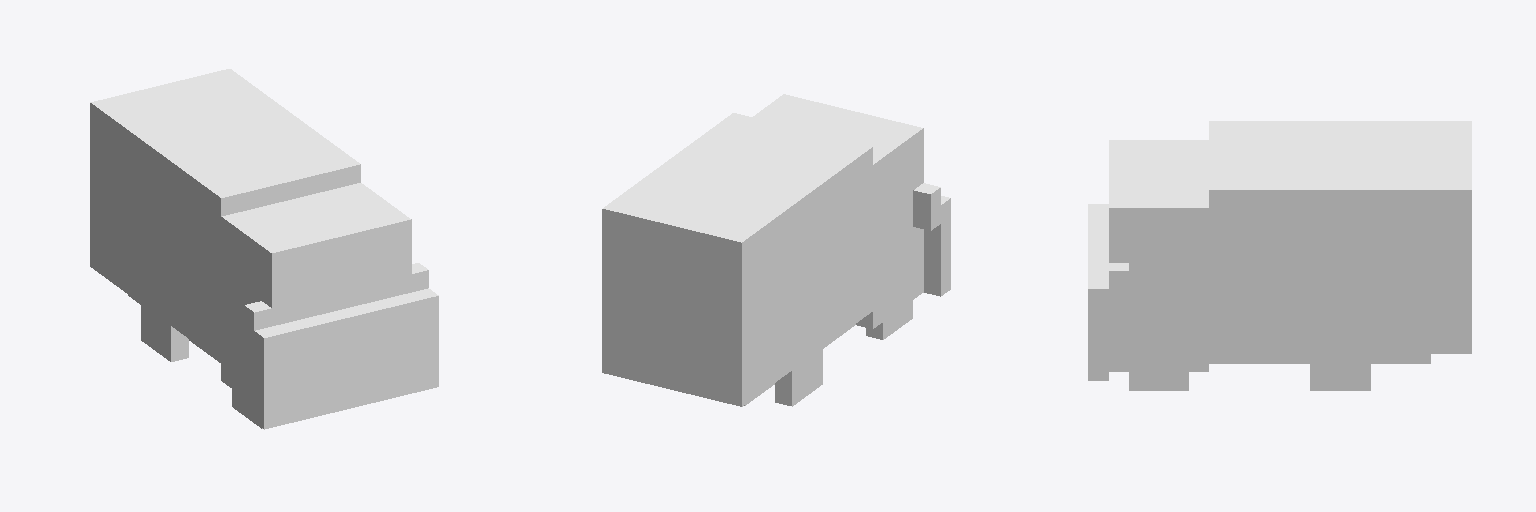
The model's file is CrossyTruck02.obj.
3 views of the same model, side by side, from view 1: azimuth 30°, elevation 25°; view 2: azimuth 150°, elevation 25°; view 3: azimuth 270°, elevation 25° (orthographic).
Visible parts, largest first — view 1: object 1; view 2: object 1; view 3: object 1.
Boxes of the visible parts, box(x1,y1,x2,y2) form: object 1: box(90, 69, 438, 429); object 1: box(602, 94, 950, 406); object 1: box(1088, 121, 1471, 390).
Size of the model in its own units: 1 by 1.1 by 1.9.